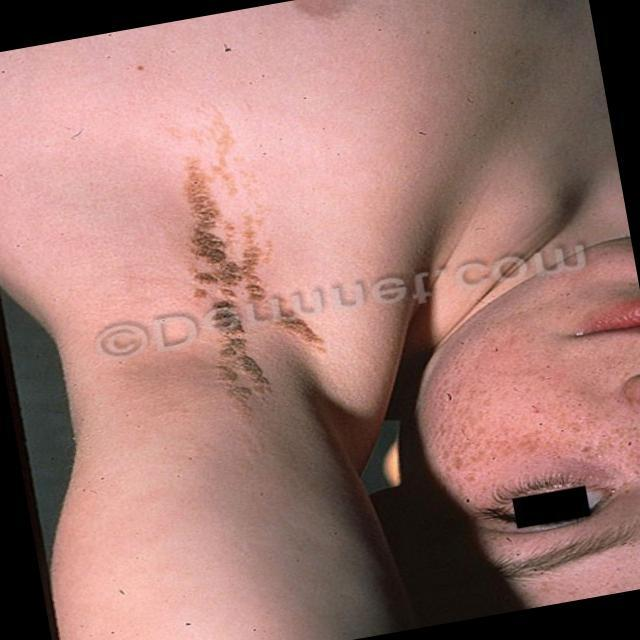Eczema: (168, 148, 321, 412)
